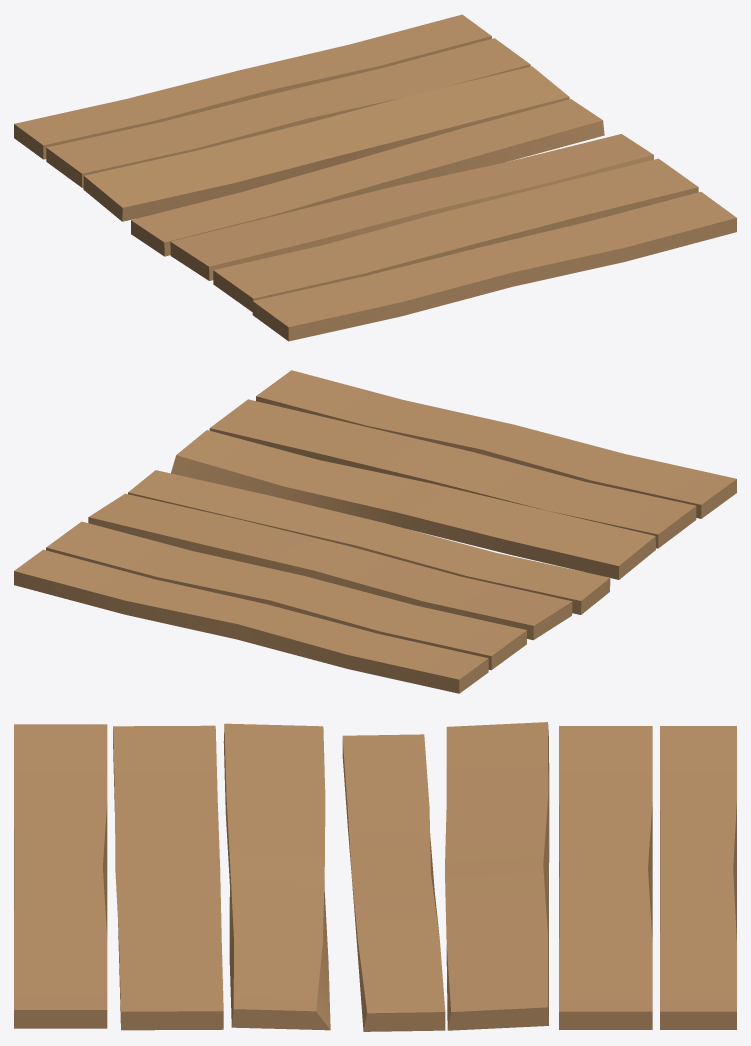
File: Planks.fbx
3 renders of one model, top to bottom at view 1: azimuth 30°, elevation 25°; view 2: azimuth 150°, elevation 25°; view 3: azimuth 270°, elevation 25°, orthographic. The views are drawn at different scales.
Parts seen in each view (by area): view 1: plank4, plank, plank1, plank3, plank2, plank5, plank6; view 2: plank2, plank6, plank1, plank4, plank5, plank, plank3; view 3: plank1, plank4, plank2, plank, plank5, plank3, plank6.
Part boxes in pixels (left/top/right/bottom): plank4: left=83, top=66, right=569, bottom=221; plank: left=252, top=192, right=736, bottom=341; plank1: left=213, top=158, right=698, bottom=311; plank3: left=131, top=99, right=604, bottom=256; plank2: left=170, top=134, right=653, bottom=280; plank5: left=46, top=38, right=530, bottom=187; plank6: left=14, top=14, right=491, bottom=159; plank2: left=171, top=430, right=655, bottom=579; plank6: left=14, top=549, right=488, bottom=693; plank1: left=209, top=399, right=696, bottom=548; plank4: left=88, top=493, right=572, bottom=640; plank5: left=46, top=521, right=526, bottom=670; plank: left=256, top=370, right=736, bottom=518; plank3: left=128, top=470, right=610, bottom=614; plank1: left=113, top=725, right=223, bottom=1030; plank4: left=445, top=722, right=549, bottom=1030; plank2: left=223, top=723, right=330, bottom=1030; plank: left=14, top=724, right=107, bottom=1028; plank5: left=559, top=726, right=652, bottom=1029; plank3: left=342, top=734, right=445, bottom=1031; plank6: left=660, top=726, right=736, bottom=1029.
Bounding box in the file's own units: 2.42 × 0.1303 × 2.58.
